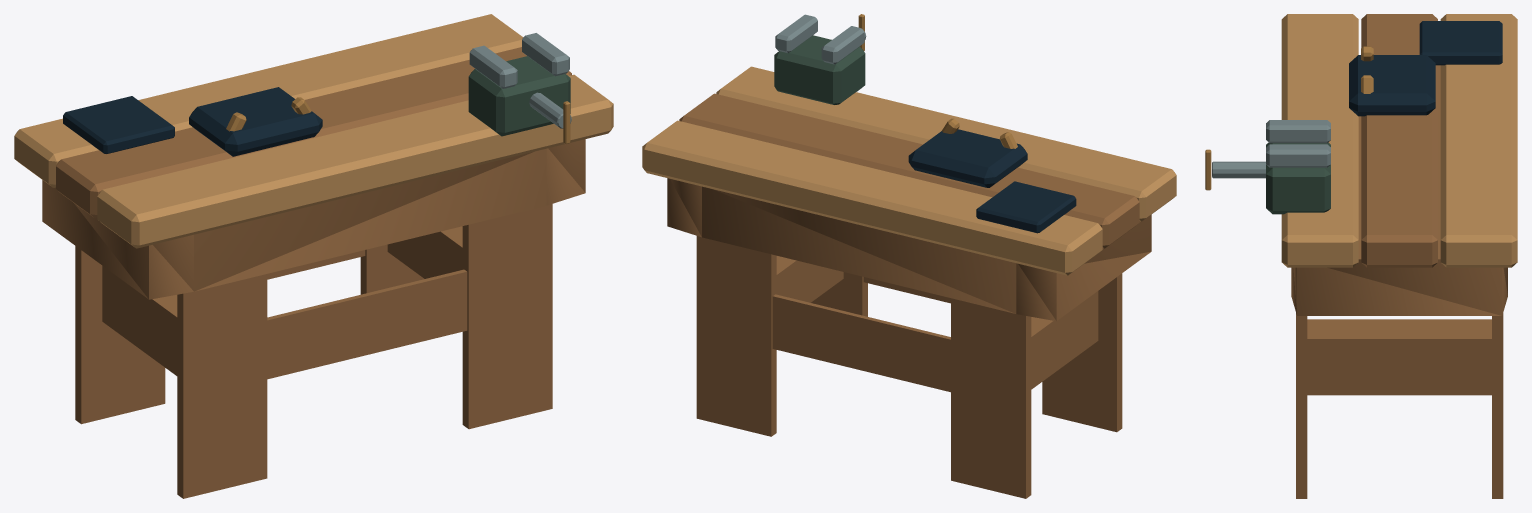
Rendered from WORKSHOP_BENCH.lo.glb.
3 renders of one model, left to right at view 1: azimuth 30°, elevation 25°; view 2: azimuth 150°, elevation 25°; view 3: azimuth 270°, elevation 25°, orthographic. The views are drawn at different scales.
Parts seen in each view (by area): view 1: Body_Mesh; view 2: Body_Mesh; view 3: Body_Mesh.
Boxes of the visible parts, left/top/right/bottom form: Body_Mesh: left=14, top=14, right=613, bottom=498; Body_Mesh: left=642, top=14, right=1176, bottom=498; Body_Mesh: left=1205, top=14, right=1517, bottom=498.
Size of the model in its own units: 1.48 by 1.07 by 0.8645.
1 material, 1 textured.
